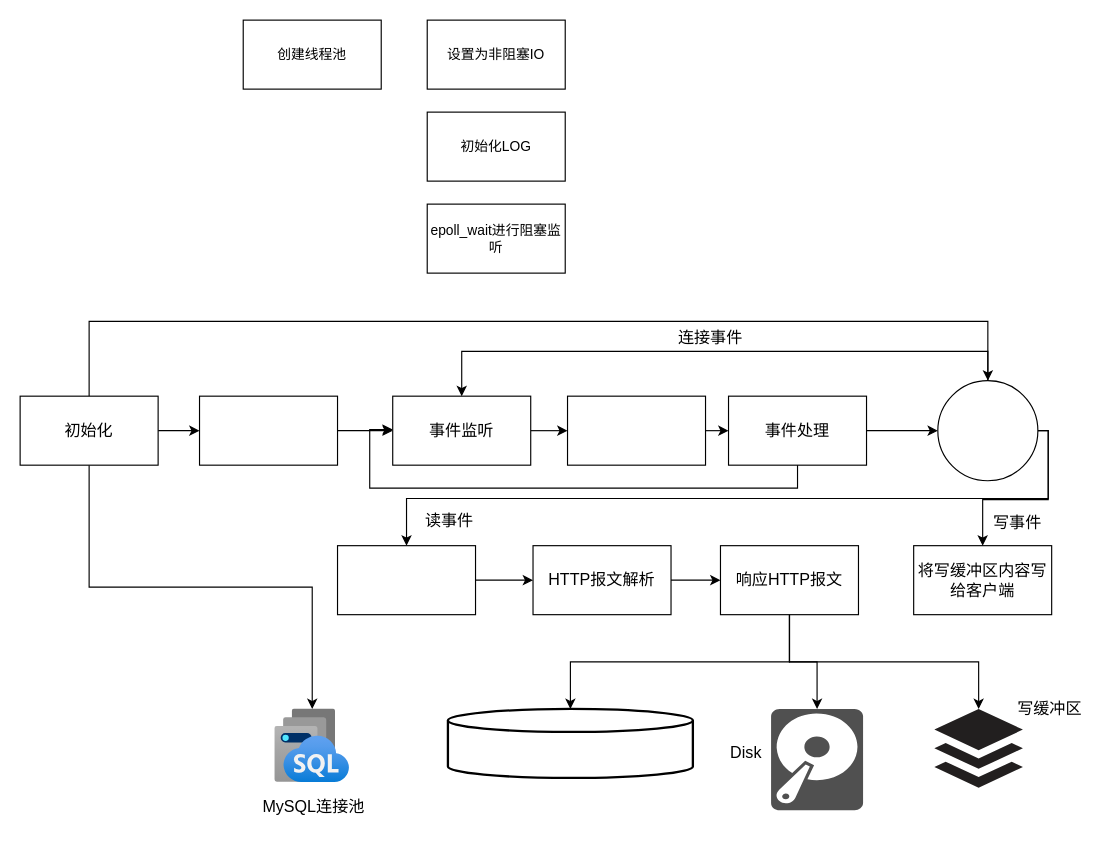
Some shapes in this 1113 by 843 pixel diagram are drawn without their labels. Here are the shapes that lost their labels. From the top down, the box of each, then its label:
(198, 395, 338, 465): 创建监听socket
(566, 395, 706, 465): 事件分发
(937, 379, 1038, 481): 线程池
(336, 545, 476, 615): 读取HTTP数据报文到读缓冲区
(446, 707, 693, 779): MySQL
